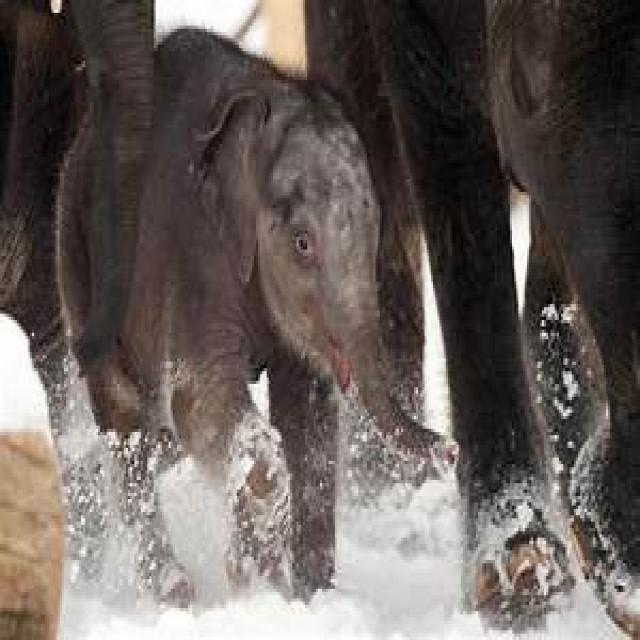elephant: (58, 29, 459, 602), (352, 0, 640, 640)
